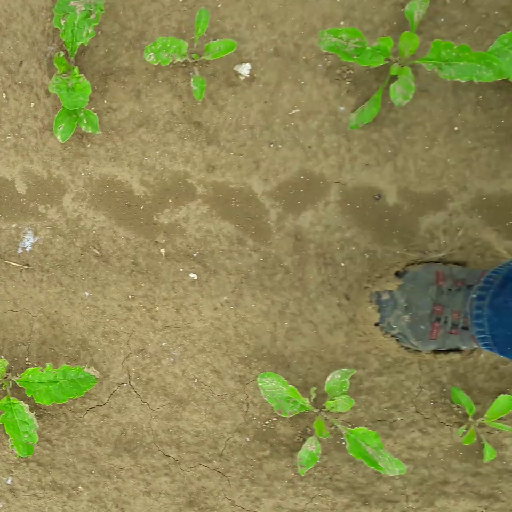sugarbeet: (315, 1, 512, 132), (251, 364, 412, 482), (1, 354, 101, 465), (40, 1, 108, 144), (144, 4, 242, 102), (446, 385, 512, 464)
